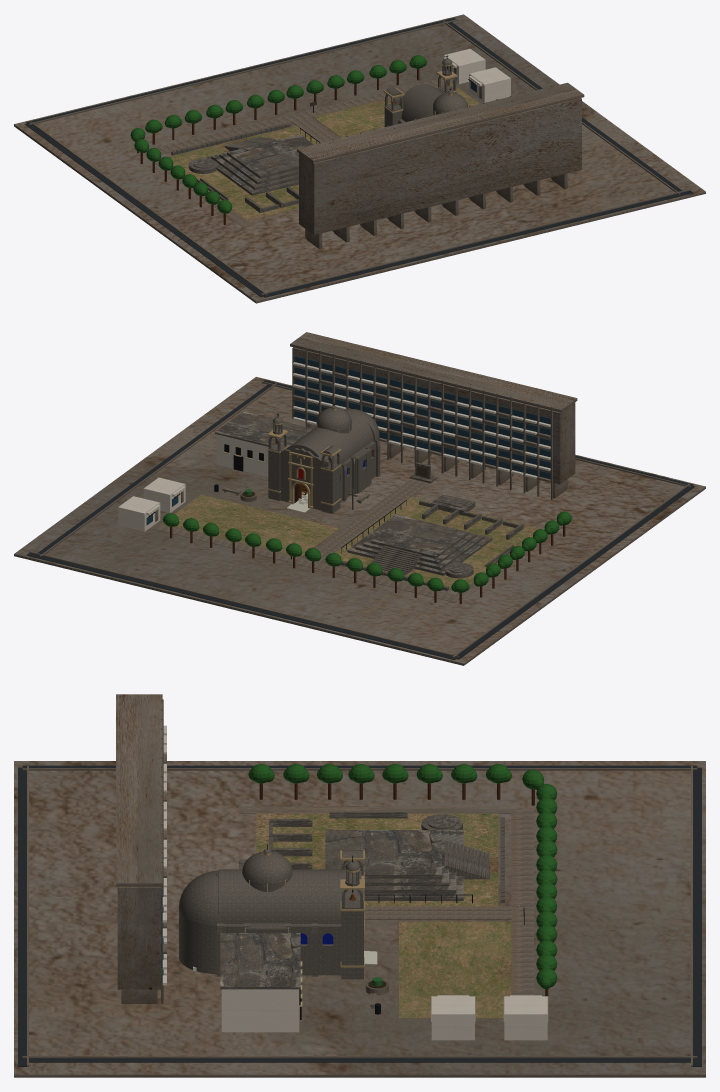
Rendered from plaza.obj.
The picture shows the model from 3 angles, top to bottom: view 1: azimuth 30°, elevation 25°; view 2: azimuth 150°, elevation 25°; view 3: azimuth 270°, elevation 25°; orthographic projection. The views are drawn at different scales.
Parts seen in each view (by area): view 1: piso, PASEO_CHIHUAHUA_0739, PASEO_CHIHUAHUA_0997, PASEO_MOBILIARIO_0013, iglesia_por_fuera, camino_de_concreto, puestos, PASEO_VESTIGIOS_0620, PASEO_MOBILIARIO_0019.001, PASEO_MOBILIARIO_0007, PASEO_MOBILIARIO_0001, PASEO_MOBILIARIO_0005 (+8 smaller); view 2: piso, iglesia_por_fuera, PASEO_CHIHUAHUA_0739, PASEO_CHIHUAHUA_0997, PASEO_MOBILIARIO_0019.001, camino_de_concreto, PASEO_MOBILIARIO_0013, convento, PASEO_VESTIGIOS_0620, puestos, PASEO_MOBILIARIO_0005, PASEO_MOBILIARIO_0001 (+7 smaller); view 3: piso, iglesia_por_fuera, PASEO_MOBILIARIO_0019.001, PASEO_CHIHUAHUA_0997, convento, PASEO_MOBILIARIO_0013, camino_de_concreto, PASEO_CHIHUAHUA_0739, PASEO_VESTIGIOS_0620, puestos, PASEO_MOBILIARIO_0003, PASEO_MOBILIARIO_0007 (+10 smaller).
Part boxes in pixels (x1=…): piso: x1=14, y1=14, x2=705, y2=303; PASEO_CHIHUAHUA_0739: x1=299, y1=98, x2=581, y2=234; PASEO_CHIHUAHUA_0997: x1=297, y1=82, x2=584, y2=162; PASEO_MOBILIARIO_0013: x1=168, y1=126, x2=318, y2=220; iglesia_por_fuera: x1=383, y1=55, x2=467, y2=126; camino_de_concreto: x1=146, y1=78, x2=452, y2=154; puestos: x1=443, y1=48, x2=510, y2=102; PASEO_VESTIGIOS_0620: x1=227, y1=136, x2=304, y2=178; PASEO_MOBILIARIO_0019.001: x1=313, y1=83, x2=479, y2=137; PASEO_MOBILIARIO_0007: x1=263, y1=190, x2=693, y2=297; PASEO_MOBILIARIO_0001: x1=24, y1=123, x2=265, y2=296; PASEO_MOBILIARIO_0005: x1=26, y1=17, x2=455, y2=123; piso: x1=14, y1=377, x2=705, y2=665; iglesia_por_fuera: x1=267, y1=403, x2=380, y2=513; PASEO_CHIHUAHUA_0739: x1=292, y1=347, x2=575, y2=484; PASEO_CHIHUAHUA_0997: x1=290, y1=332, x2=577, y2=412; PASEO_MOBILIARIO_0019.001: x1=162, y1=494, x2=339, y2=556; camino_de_concreto: x1=154, y1=479, x2=459, y2=602; PASEO_MOBILIARIO_0013: x1=335, y1=497, x2=544, y2=589; convento: x1=215, y1=411, x2=357, y2=509; PASEO_VESTIGIOS_0620: x1=371, y1=516, x2=468, y2=558; puestos: x1=118, y1=477, x2=185, y2=531; PASEO_MOBILIARIO_0005: x1=26, y1=553, x2=455, y2=659; PASEO_MOBILIARIO_0001: x1=454, y1=485, x2=695, y2=659; piso: x1=14, y1=761, x2=705, y2=1077; iglesia_por_fuera: x1=178, y1=844, x2=377, y2=979; PASEO_MOBILIARIO_0019.001: x1=399, y1=921, x2=514, y2=1018; PASEO_CHIHUAHUA_0997: x1=116, y1=694, x2=162, y2=886; convento: x1=220, y1=933, x2=302, y2=1032; PASEO_MOBILIARIO_0013: x1=256, y1=813, x2=498, y2=914; camino_de_concreto: x1=364, y1=809, x2=533, y2=995; PASEO_CHIHUAHUA_0739: x1=117, y1=886, x2=160, y2=989; PASEO_VESTIGIOS_0620: x1=347, y1=830, x2=441, y2=878; puestos: x1=431, y1=995, x2=548, y2=1040; PASEO_MOBILIARIO_0003: x1=23, y1=1058, x2=695, y2=1062; PASEO_MOBILIARIO_0007: x1=18, y1=767, x2=27, y2=1066.
Size of the model in its own units: 85.82 by 17.27 by 80.
43 materials, 12 textured.
